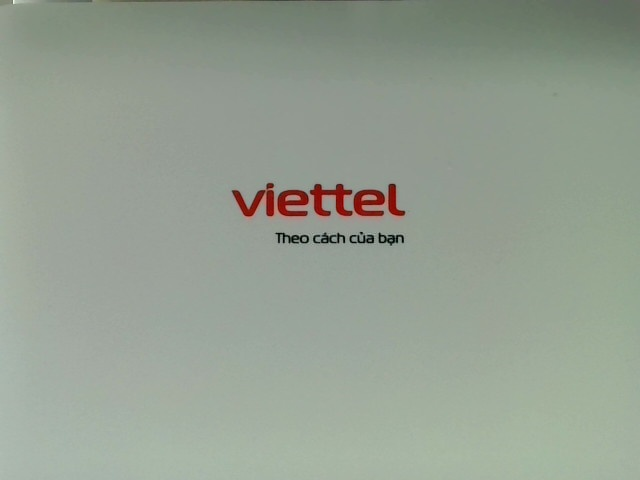AY_Viettel: (226, 177, 408, 251)
